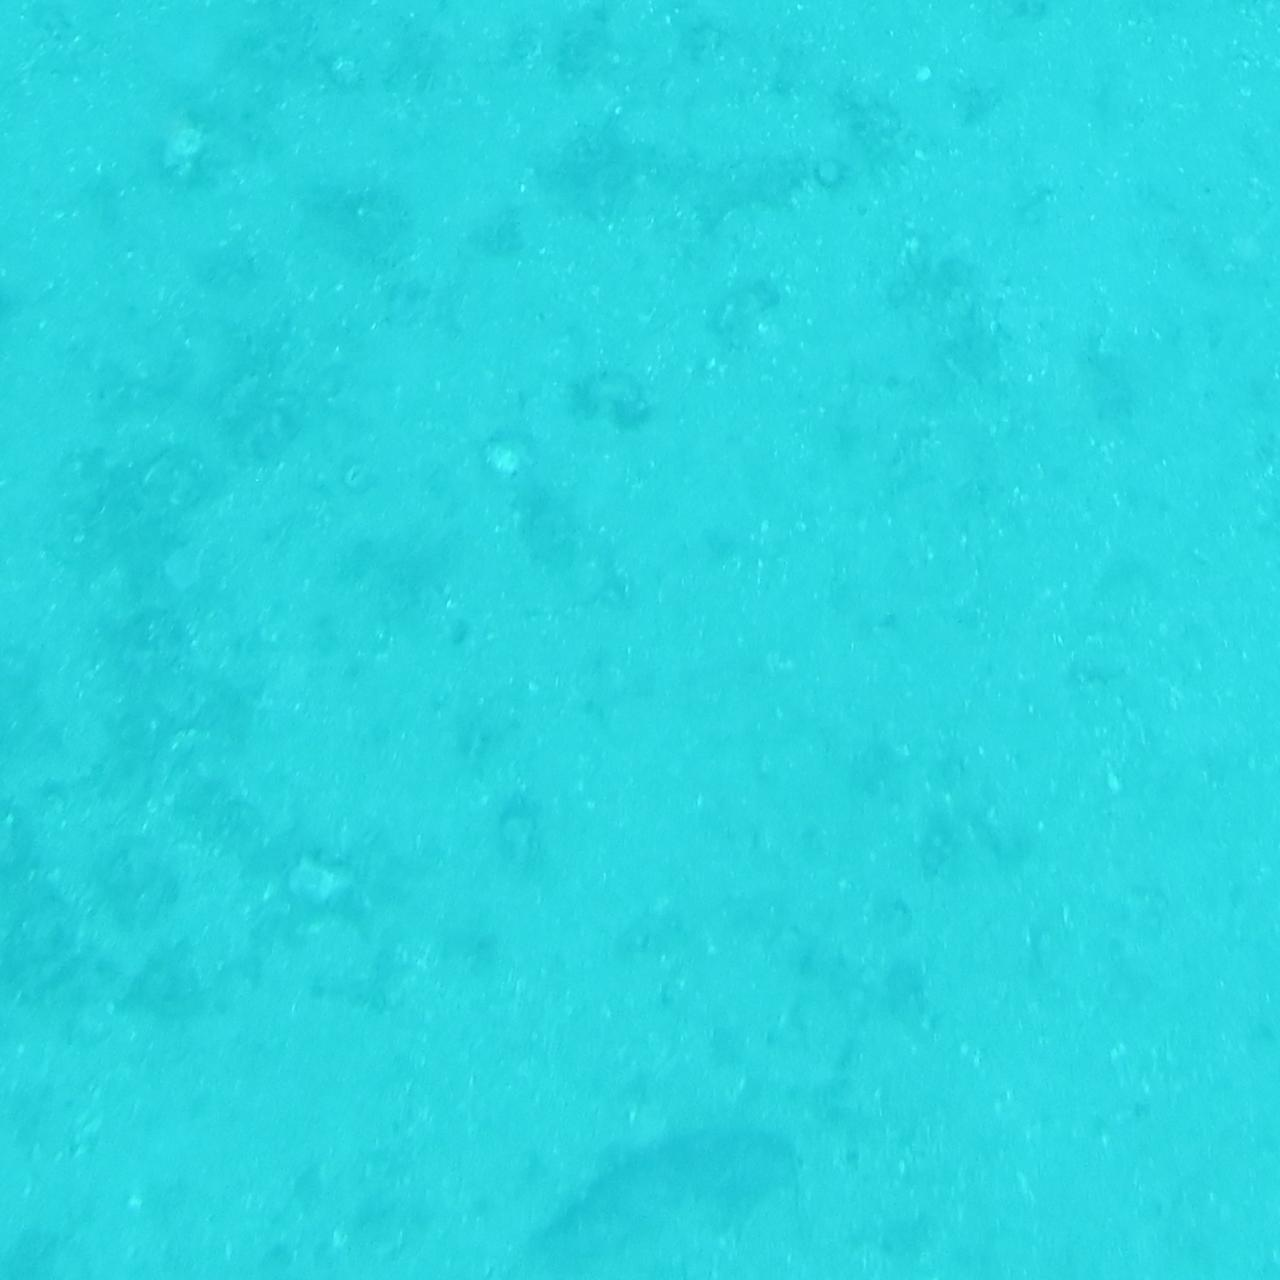Holothuria tubulosa: (456, 1116, 824, 1279)
